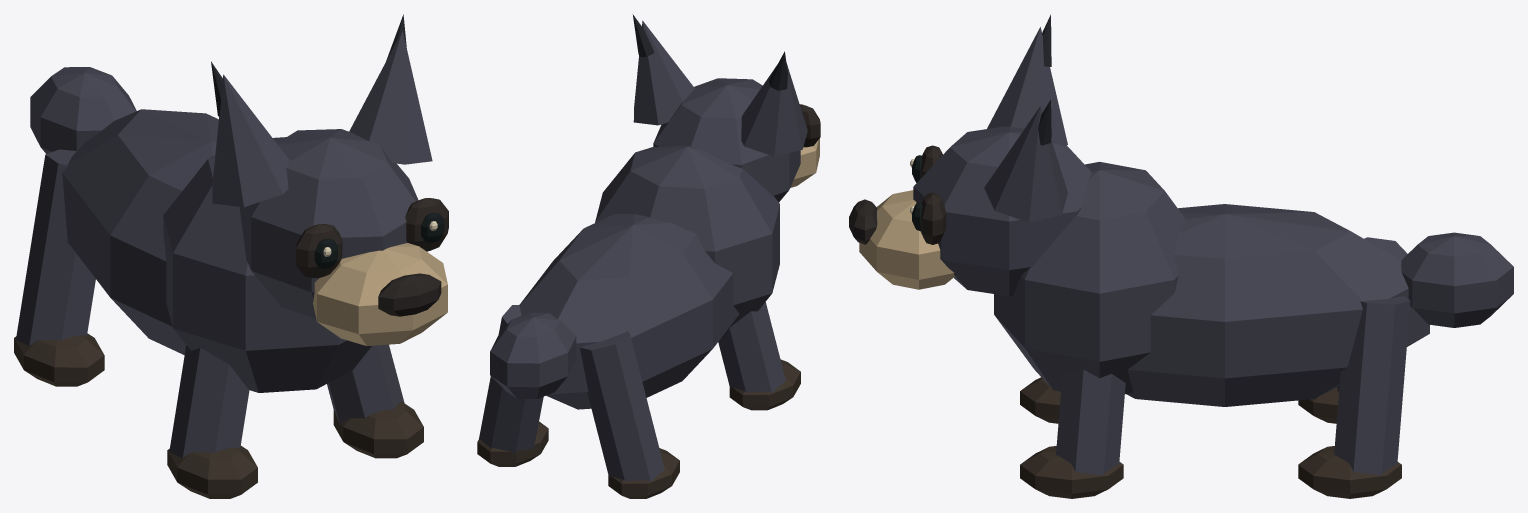
File: fauna-pine_lynx.glb
3 views of the same model, side by side, from view 1: azimuth 30°, elevation 25°; view 2: azimuth 150°, elevation 25°; view 3: azimuth 270°, elevation 25° (orthographic). The views are drawn at different scales.
Visible parts, largest first — view 1: Fauna_pine_lynx; view 2: Fauna_pine_lynx; view 3: Fauna_pine_lynx.
Part boxes in pixels (x1,y1,x2,y2): Fauna_pine_lynx: [14, 14, 448, 498]; Fauna_pine_lynx: [477, 14, 820, 498]; Fauna_pine_lynx: [849, 14, 1513, 498].
Bounding box in the file's own units: 0.7132 × 1.27 × 1.91.
